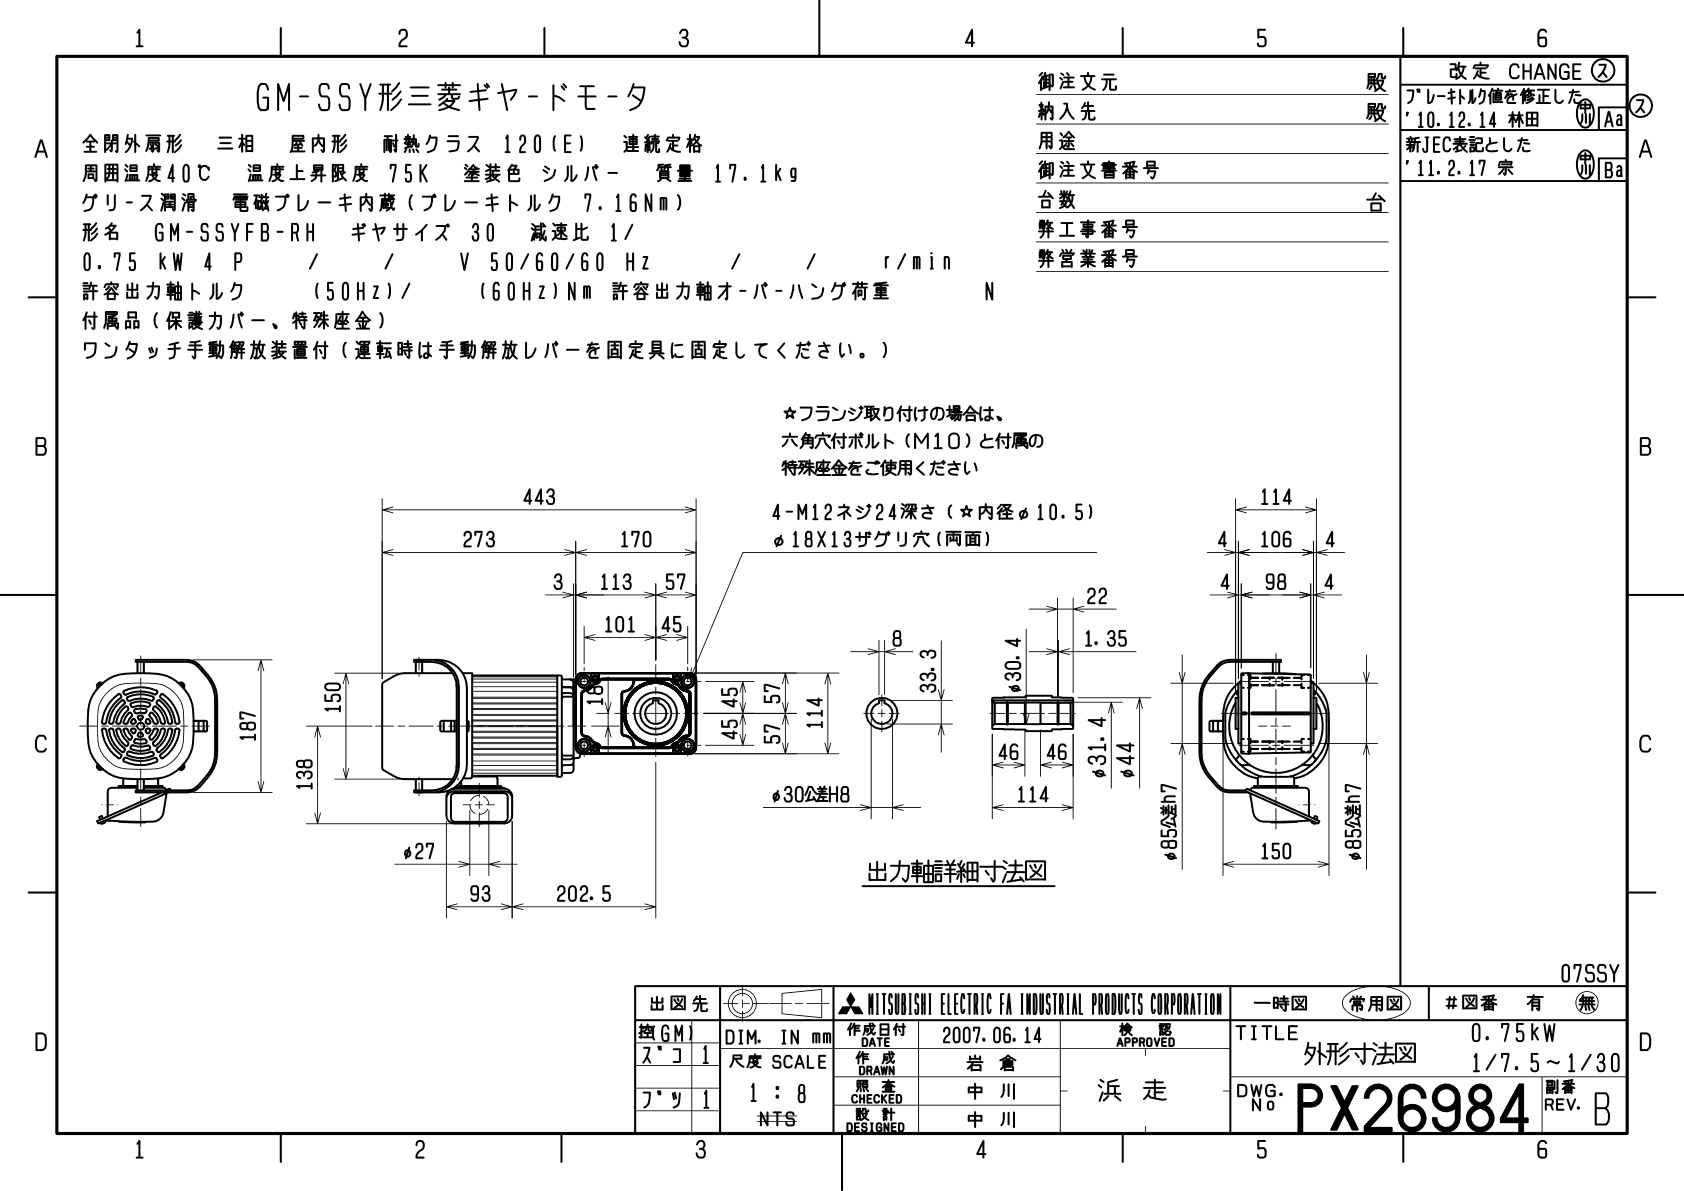GM_SSY_手動解放_三相: (71, 380, 1386, 949)
